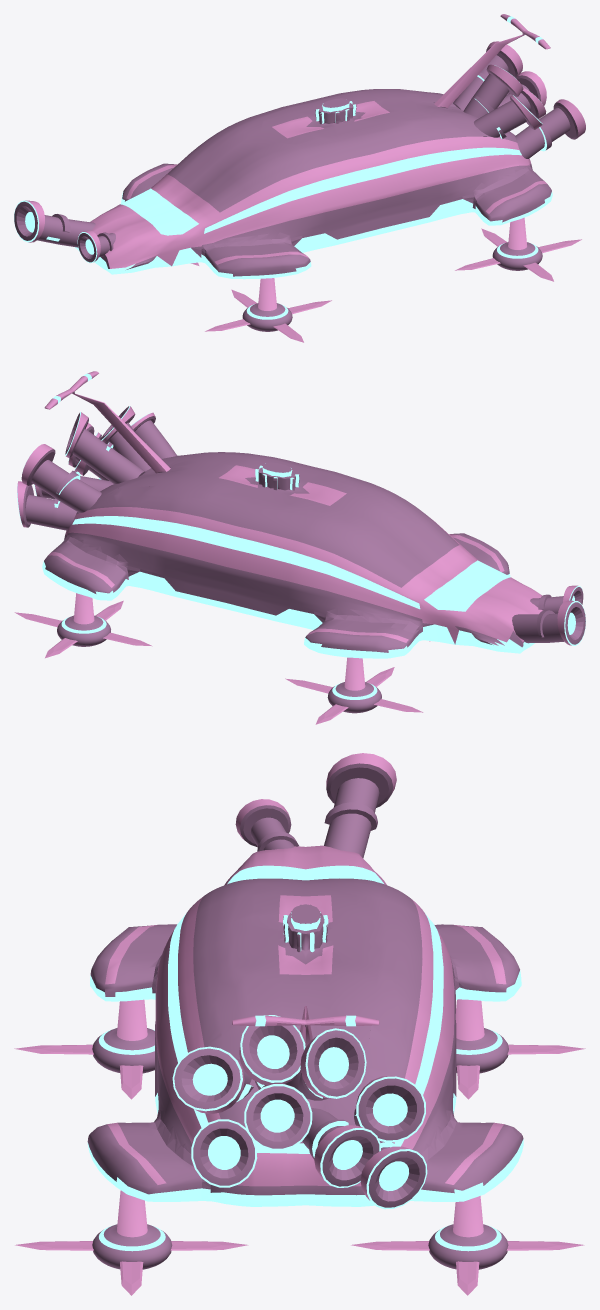
Rendered from onytondeuse.fbx.
3 renders of one model, top to bottom at view 1: azimuth 30°, elevation 25°; view 2: azimuth 150°, elevation 25°; view 3: azimuth 270°, elevation 25°, orthographic. The views are drawn at different scales.
Visible parts, largest first — view 1: Cube, Cube.012, Cube.011, pCylinder26, pCylinder32, pCylinder33, pCylinder24, pCylinder30, pCylinder27, pCylinder31, pCylinder29; view 2: Cube, Cube.013, Cube.010, pCylinder35, pCylinder26, pCylinder30, pCylinder34, pCylinder24, pCylinder33, pCylinder27; view 3: Cube, Cube.011, Cube.010, pCylinder26, Cube.012, pCylinder24, Cube.013, pCylinder31, pCylinder30, pCylinder35, pCylinder29, pCylinder32 (+3 smaller).
Boxes of the visible parts, x1=… form: Cube: x1=75, y1=14, x2=552, y2=279; Cube.012: x1=205, y1=278, x2=331, y2=342; Cube.011: x1=455, y1=217, x2=581, y2=281; pCylinder26: x1=14, y1=200, x2=95, y2=247; pCylinder32: x1=515, y1=99, x2=585, y2=158; pCylinder33: x1=463, y1=64, x2=523, y2=118; pCylinder24: x1=474, y1=95, x2=542, y2=139; pCylinder30: x1=453, y1=41, x2=522, y2=110; pCylinder27: x1=77, y1=230, x2=115, y2=263; pCylinder31: x1=507, y1=71, x2=546, y2=105; pCylinder29: x1=497, y1=87, x2=546, y2=118; Cube: x1=42, y1=371, x2=542, y2=658; Cube.013: x1=285, y1=657, x2=423, y2=724; Cube.010: x1=14, y1=593, x2=152, y2=658; pCylinder35: x1=21, y1=444, x2=101, y2=512; pCylinder26: x1=512, y1=600, x2=585, y2=645; pCylinder30: x1=65, y1=412, x2=145, y2=484; pCylinder34: x1=17, y1=481, x2=76, y2=530; pCylinder24: x1=131, y1=412, x2=177, y2=458; pCylinder33: x1=100, y1=406, x2=150, y2=470; pCylinder27: x1=530, y1=585, x2=583, y2=613; Cube: x1=87, y1=845, x2=523, y2=1206; Cube.011: x1=15, y1=1190, x2=248, y2=1295; Cube.010: x1=351, y1=1196, x2=584, y2=1295; pCylinder26: x1=324, y1=753, x2=396, y2=858; Cube.012: x1=14, y1=999, x2=154, y2=1099; pCylinder24: x1=172, y1=1046, x2=253, y2=1113; Cube.013: x1=455, y1=999, x2=585, y2=1099; pCylinder31: x1=302, y1=1108, x2=380, y2=1187; pCylinder30: x1=298, y1=1028, x2=366, y2=1100; pCylinder35: x1=354, y1=1075, x2=425, y2=1142; pCylinder29: x1=244, y1=1083, x2=312, y2=1150; pCylinder32: x1=190, y1=1119, x2=257, y2=1187.
Bounding box in the file's own units: 1065 × 366 × 641.
